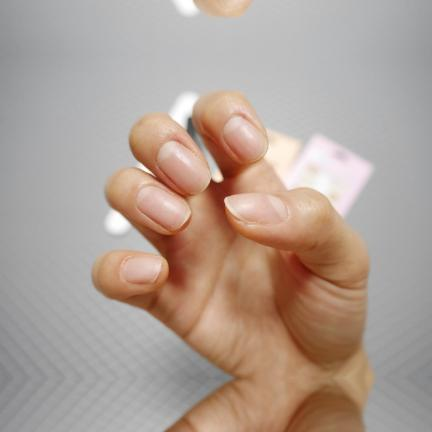Nail: (157, 140, 210, 193), (136, 185, 191, 229), (223, 115, 267, 162), (224, 192, 288, 223), (120, 254, 163, 284)
